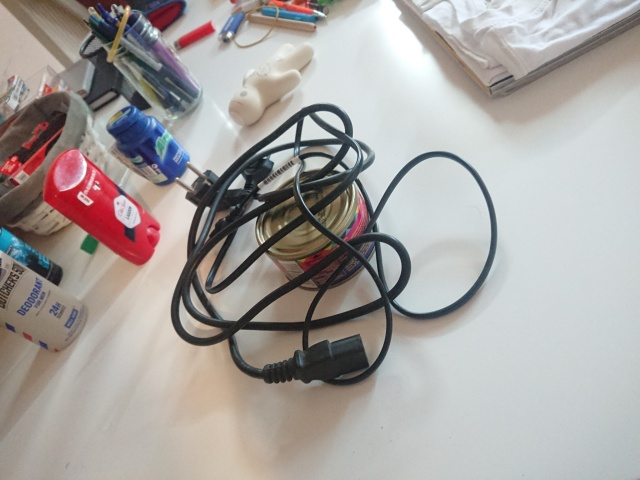Giana Tuna Salad Mexico 185g: (254, 166, 384, 295)
